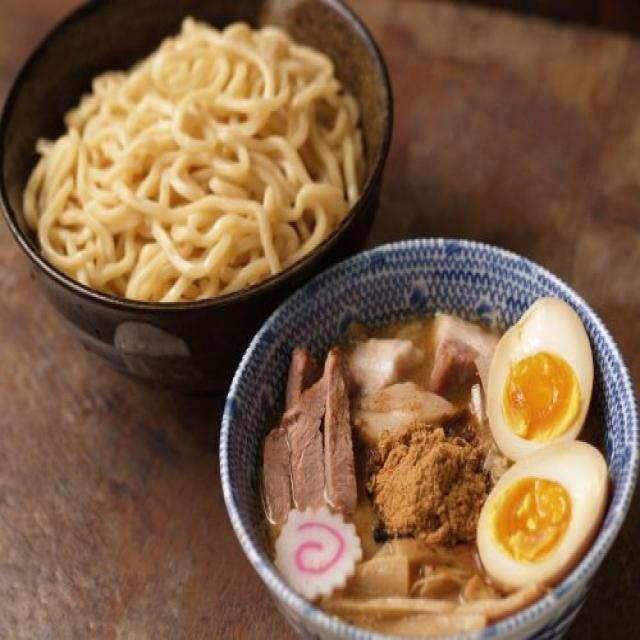面条主食: (8, 5, 635, 637)
